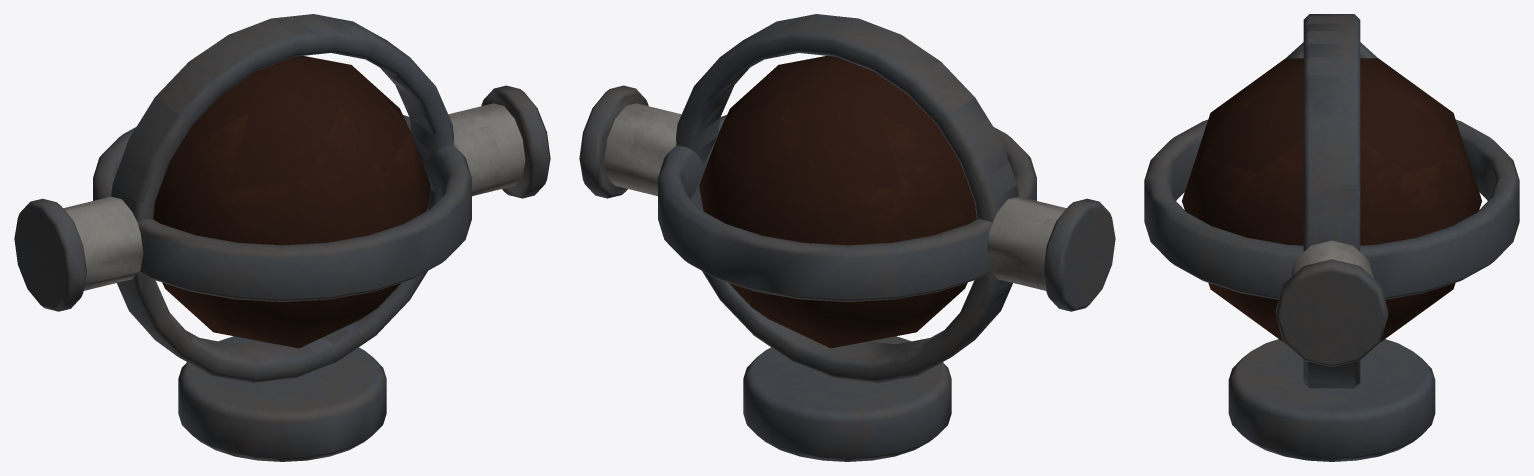
The model's file is prop_husk_heart_01.gltf.
3 renders of one model, left to right at view 1: azimuth 30°, elevation 25°; view 2: azimuth 150°, elevation 25°; view 3: azimuth 270°, elevation 25°, orthographic.
Visible parts, largest first — view 1: prop_husk_heart_01_item_atlas_01; view 2: prop_husk_heart_01_item_atlas_01; view 3: prop_husk_heart_01_item_atlas_01.
Boxes of the visible parts, x1=… form: prop_husk_heart_01_item_atlas_01: x1=14, y1=14, x2=550, y2=461; prop_husk_heart_01_item_atlas_01: x1=579, y1=14, x2=1115, y2=461; prop_husk_heart_01_item_atlas_01: x1=1144, y1=14, x2=1519, y2=461.
Size of the model in its own units: 0.118 by 0.092 by 0.08.
1 material, 1 textured.
